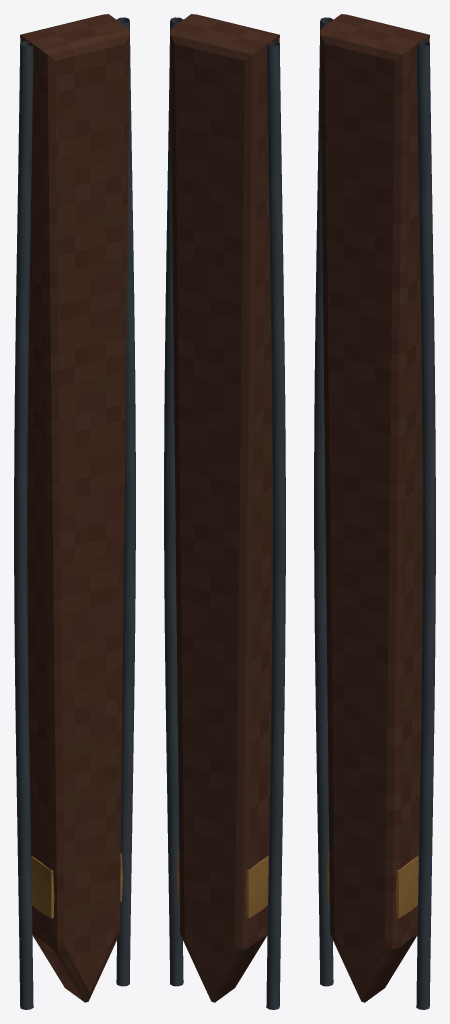
3 views of the same model, side by side, from view 1: azimuth 30°, elevation 25°; view 2: azimuth 150°, elevation 25°; view 3: azimuth 330°, elevation 25° (orthographic).
Visible parts, largest first — view 1: leather.0, iron.3, iron.4, brass.2; view 2: leather.0, iron.3, iron.4, brass.2; view 3: leather.0, iron.4, iron.3, brass.2.
Boxes of the visible parts, x1,y1,x2,y2 form: leather.0: [20, 14, 129, 1002]; iron.3: [14, 41, 33, 1009]; iron.4: [116, 17, 135, 986]; brass.2: [31, 853, 122, 918]; leather.0: [170, 14, 279, 1002]; iron.3: [266, 41, 285, 1009]; iron.4: [164, 17, 183, 986]; brass.2: [177, 853, 268, 918]; leather.0: [320, 14, 429, 1002]; iron.4: [416, 41, 435, 1009]; iron.3: [314, 17, 333, 986]; brass.2: [327, 853, 418, 918].
Size of the model in its own units: 0.1206 by 0.9212 by 0.0525.
3 materials, 3 textured.
